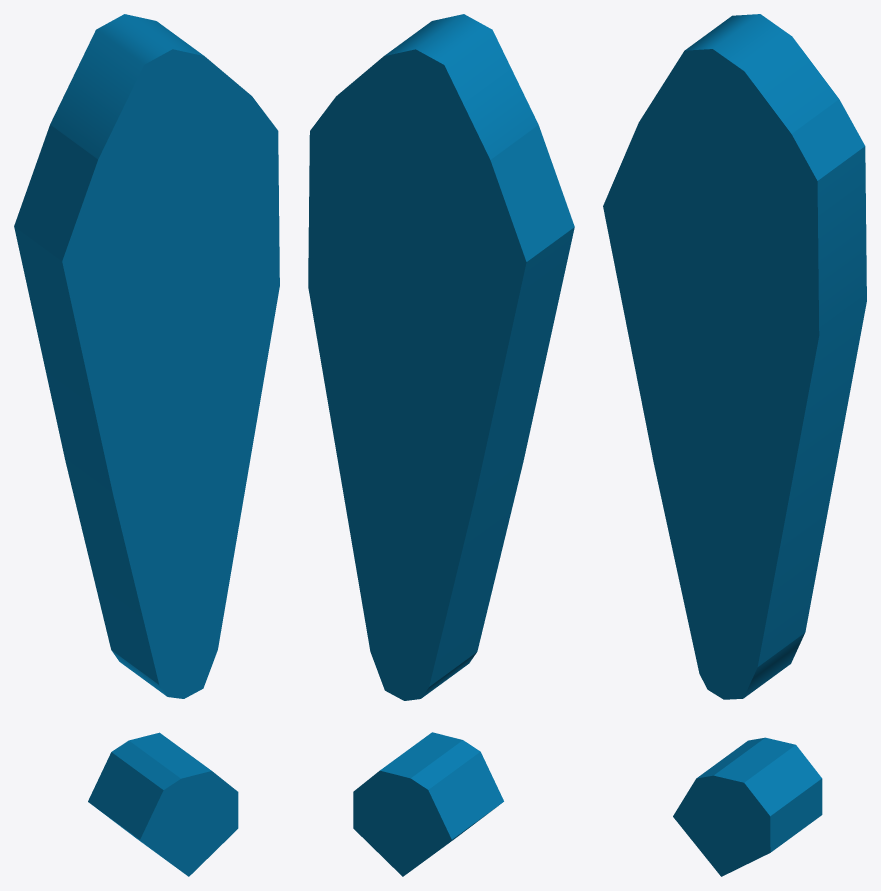
The model's file is sign_yuyan_tanhao.FBX.
3 renders of one model, left to right at view 1: azimuth 30°, elevation 25°; view 2: azimuth 150°, elevation 25°; view 3: azimuth 330°, elevation 25°, orthographic.
Parts seen in each view (by area): view 1: Box004; view 2: Box004; view 3: Box004.
Boxes of the visible parts, x1,y1,x2,y2 form: Box004: (14, 14, 279, 876); Box004: (308, 14, 574, 876); Box004: (603, 14, 866, 876).
Bounding box in the file's own units: 119 × 433 × 49.49.
